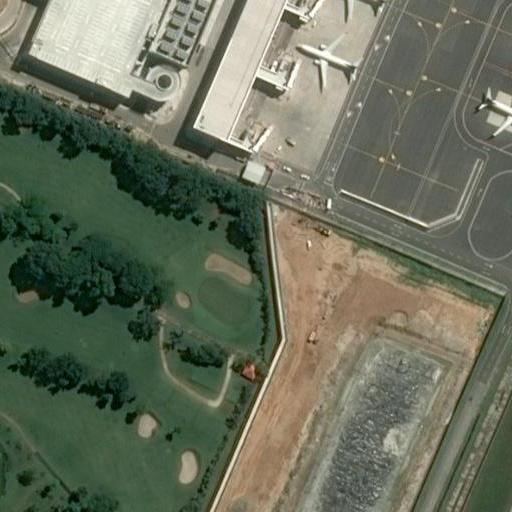Aircraft: (296, 31, 361, 89), (476, 78, 512, 136), (327, 0, 391, 21)
